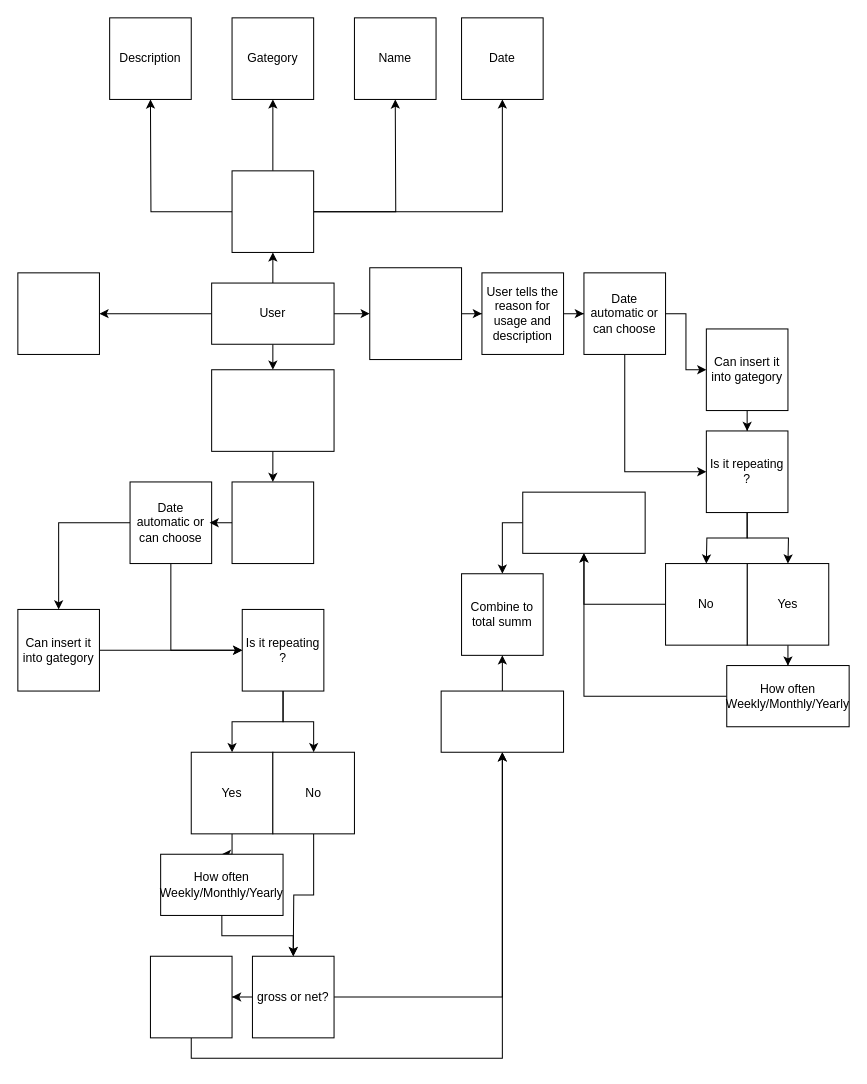
Image size: 867x1084. Some labels were removed from this diagram. The shapes that lost their labels are listed below. From the top down, each one's centre as x and y in pixels, then its label:
[272,211]: Can search shows list
[58,313]: Can see total sum of diffrnet gategories
[415,313]: User spends money
[272,410]: User gains money
[272,522]: User tells the reason for gain and description
[583,522]: App Saves the spendature
[502,721]: App saves gains
[190,996]: if gross does needed deductions
